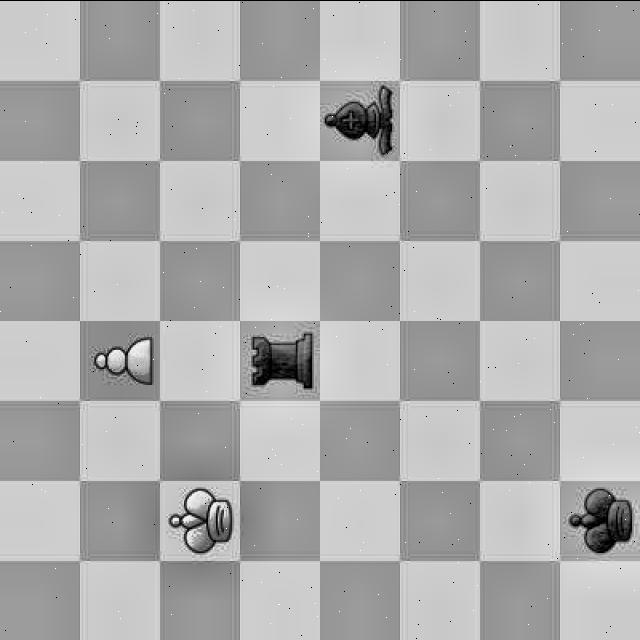black bishop: (324, 78, 401, 160)
black king: (565, 483, 639, 552)
black rook: (240, 320, 318, 400)
white king: (156, 484, 242, 558)
white pawn: (80, 323, 159, 395)
